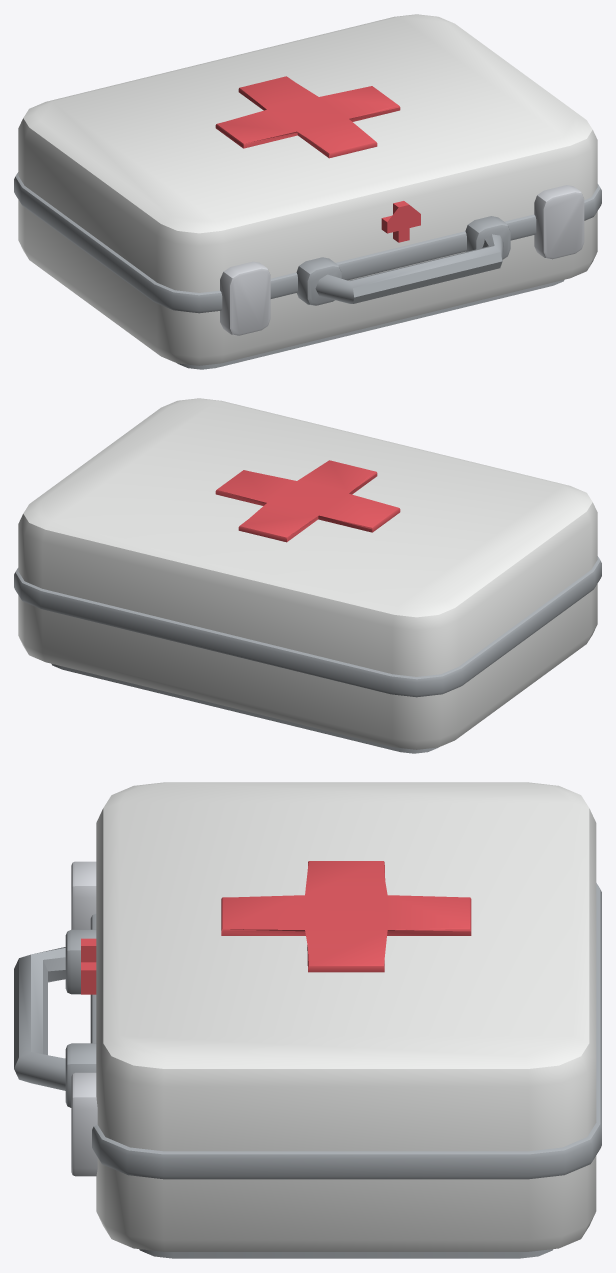
Rendered from SM_ReqMedkit.fbx.
3 renders of one model, top to bottom at view 1: azimuth 30°, elevation 25°; view 2: azimuth 150°, elevation 25°; view 3: azimuth 270°, elevation 25°, orthographic. The views are drawn at different scales.
Parts seen in each view (by area): view 1: ReqMedkit; view 2: ReqMedkit; view 3: ReqMedkit.
Part boxes in pixels (left/top/right/bottom): ReqMedkit: left=14, top=14, right=601, bottom=369; ReqMedkit: left=14, top=398, right=601, bottom=753; ReqMedkit: left=14, top=782, right=601, bottom=1258.
Bounding box in the file's own units: 0.366 × 0.124 × 0.3059.
